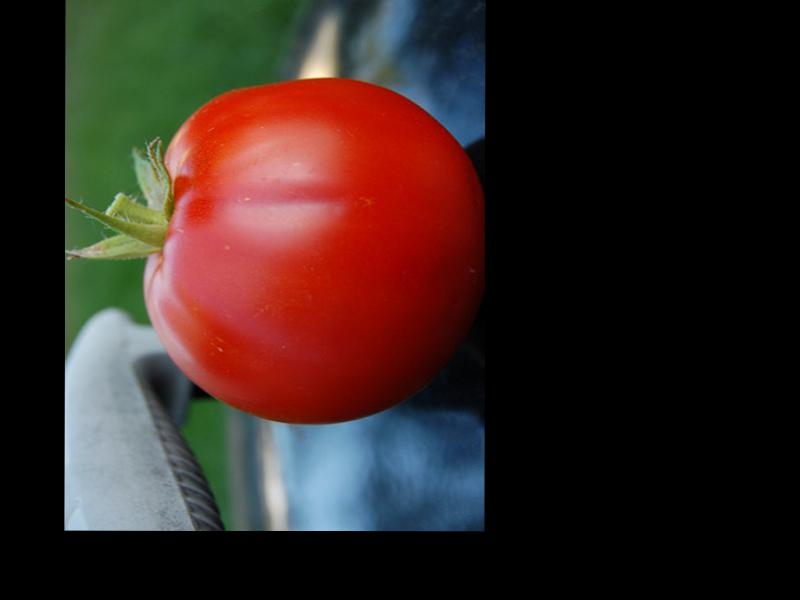Tomato: (143, 76, 485, 425)
